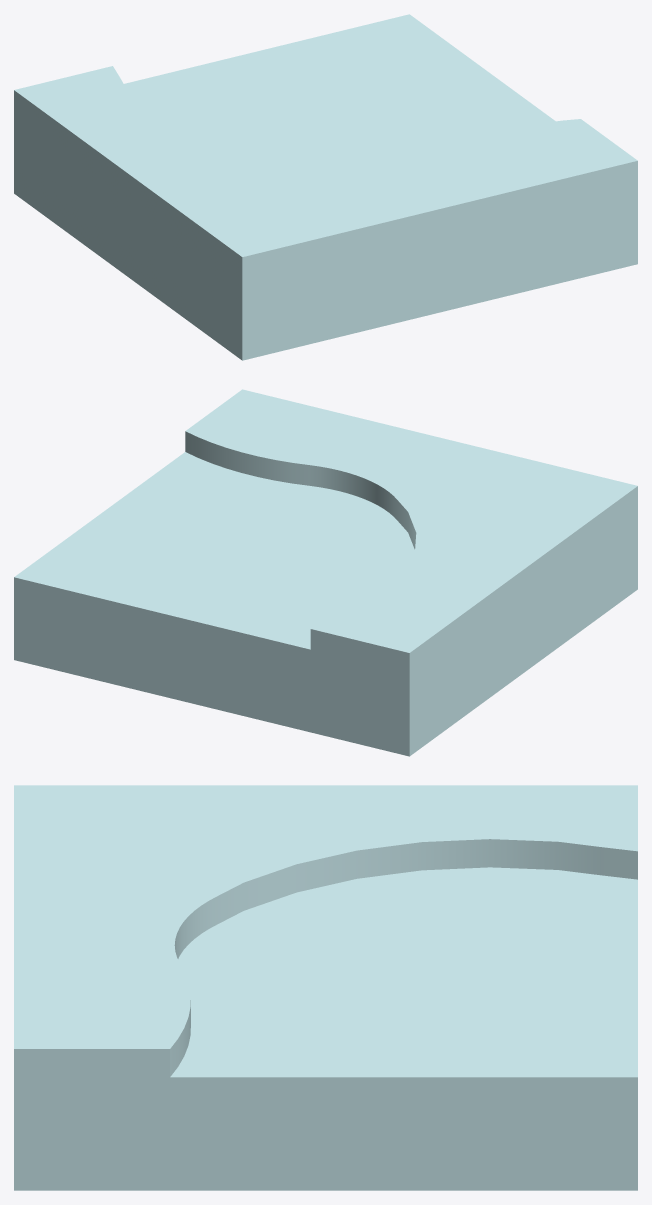
The model's file is ground_dirtRiverSideCorner.fbx.
3 renders of one model, top to bottom at view 1: azimuth 30°, elevation 25°; view 2: azimuth 150°, elevation 25°; view 3: azimuth 270°, elevation 25°, orthographic. The views are drawn at different scales.
Parts seen in each view (by area): view 1: ground_dirtRiverSideCorner; view 2: ground_dirtRiverSideCorner; view 3: ground_dirtRiverSideCorner.
Boxes of the visible parts, <box> form: ground_dirtRiverSideCorner: <box>14,14,637,360</box>; ground_dirtRiverSideCorner: <box>14,389,637,756</box>; ground_dirtRiverSideCorner: <box>14,785,637,1190</box>.
Bounding box in the file's own units: 300 × 75 × 300.
